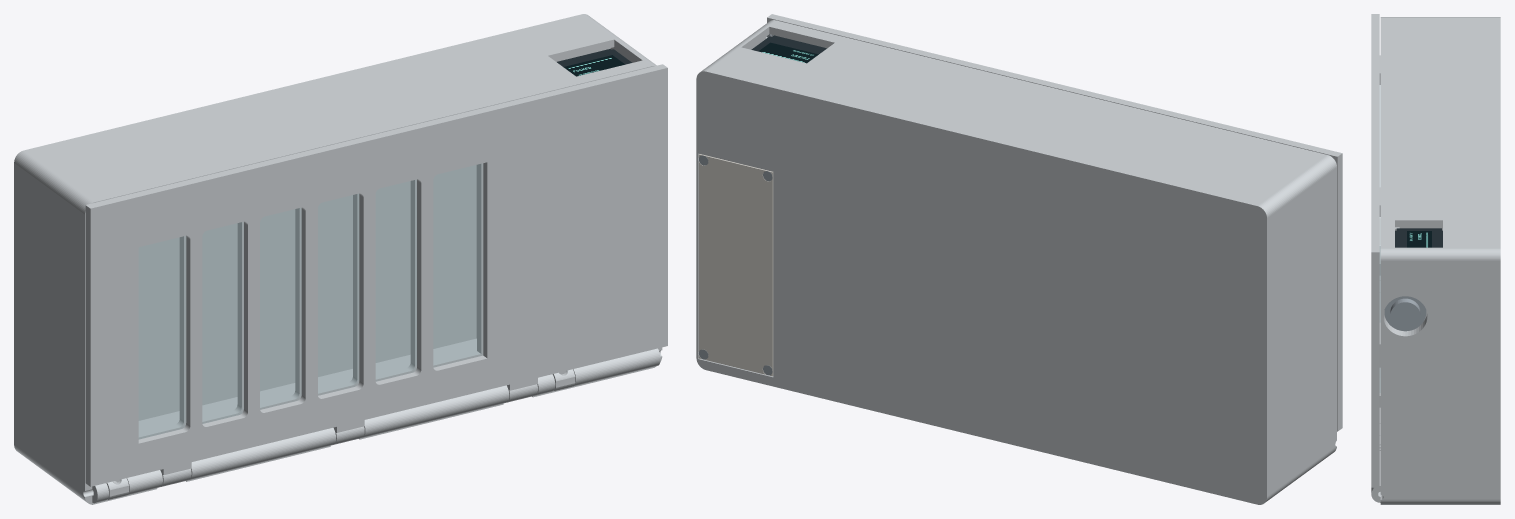
3 views of the same model, side by side, from view 1: azimuth 30°, elevation 25°; view 2: azimuth 150°, elevation 25°; view 3: azimuth 270°, elevation 25° (orthographic). The views are drawn at different scales.
Parts seen in each view (by area): view 1: lid, base_box, acrylic, window_grille, oled; view 2: base_box, battery_hatch, lid, oled; view 3: base_box, lid, button, oled, acrylic.
Boxes of the visible parts, bbox=[...] form: lid: bbox=[85, 64, 667, 486]; base_box: bbox=[14, 14, 662, 504]; acrylic: bbox=[139, 164, 482, 439]; window_grille: bbox=[138, 163, 483, 439]; oled: bbox=[557, 49, 631, 76]; base_box: bbox=[696, 20, 1336, 504]; battery_hatch: bbox=[698, 154, 773, 376]; lid: bbox=[767, 14, 1342, 431]; oled: bbox=[751, 35, 826, 63]; base_box: bbox=[1371, 17, 1500, 504]; lid: bbox=[1371, 14, 1380, 487]; button: bbox=[1384, 296, 1426, 331]; oled: bbox=[1395, 228, 1442, 247]; acrylic: bbox=[1380, 85, 1380, 392].
Size of the model in its own units: 0.24 by 0.12 by 0.055.
38 materials, 1 textured.
